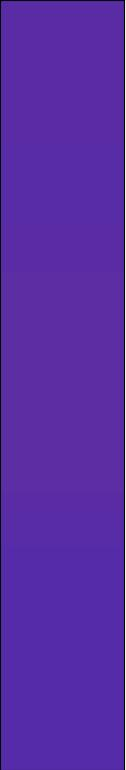safe: (6, 10, 118, 760)
